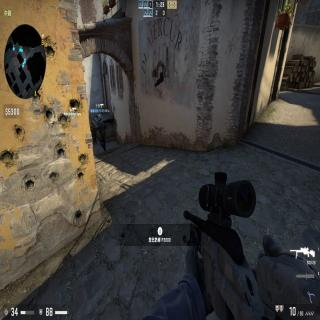CT-Body: (94, 119, 108, 152)
CT-Head: (98, 120, 102, 124)
